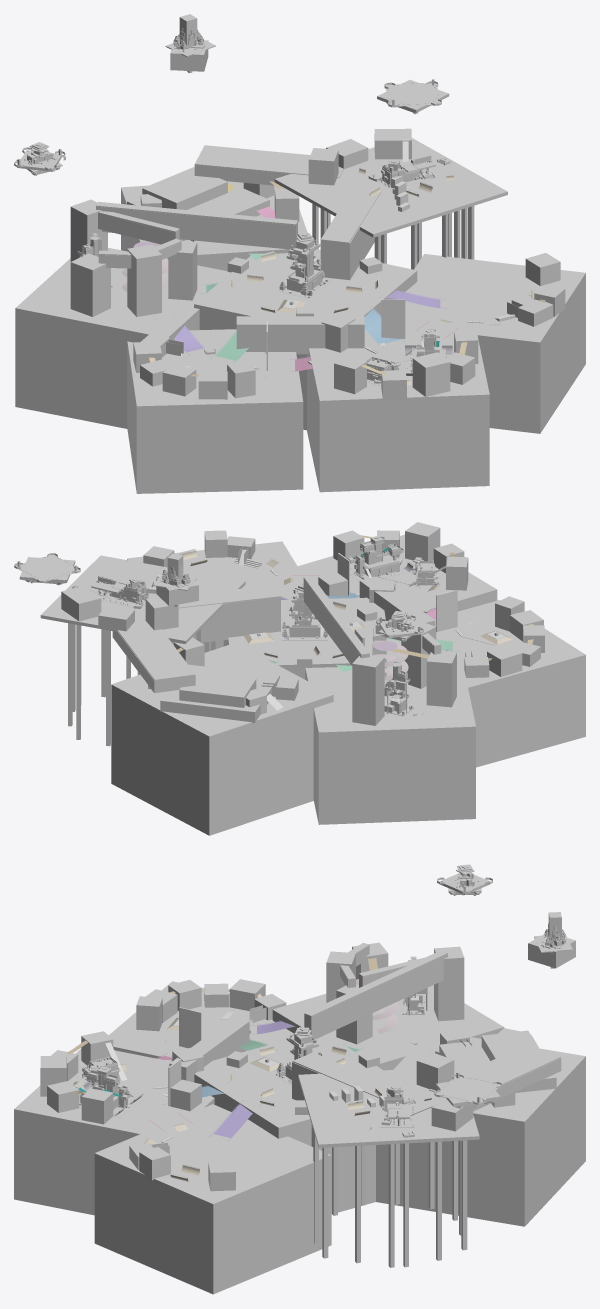
The model's file is zone_skyline_collision.glb.
3 renders of one model, top to bottom at view 1: azimuth 30°, elevation 25°; view 2: azimuth 150°, elevation 25°; view 3: azimuth 270°, elevation 25°, orthographic. The views are drawn at different scales.
Parts seen in each view (by area): view 1: bld_0.001, bld_1.001, bld_4, bld_23.001, bld_2, bld_5.001, bld_273, bld_269, bld_39.001, bld_41.001, bld_253, bld_20.001 (+28 smaller); view 2: bld_20.001, bld_23.001, bld_0.001, bld_5.001, bld_2, bld_1.001, bld_4, bld_41.001, bld_38.001, bld_21.001, bld_258, bld_22.001 (+33 smaller); view 3: bld_4, bld_20.001, bld_1.001, bld_2, bld_5.001, bld_23.001, bld_0.001, bld_269, bld_258, bld_273, bld_41.001, bld_39.001 (+31 smaller).
Part boxes in pixels (x1,y1,x2,y2): bld_0.001: (127, 329, 303, 493); bld_1.001: (307, 326, 489, 492); bld_4: (396, 254, 585, 433); bld_23.001: (15, 247, 230, 428); bld_2: (194, 249, 417, 430); bld_5.001: (274, 138, 507, 237); bld_273: (236, 316, 364, 354); bld_269: (96, 206, 295, 249); bld_39.001: (320, 187, 381, 279); bld_41.001: (194, 145, 343, 177); bld_253: (127, 244, 161, 316); bld_20.001: (121, 181, 307, 271); bld_20.001: (111, 642, 333, 835); bld_23.001: (305, 660, 475, 824); bld_0.001: (388, 600, 585, 767); bld_5.001: (40, 555, 245, 644); bld_2: (223, 597, 391, 679); bld_1.001: (276, 534, 497, 611); bld_4: (127, 541, 303, 651); bld_41.001: (117, 620, 195, 690); bld_38.001: (193, 597, 280, 642); bld_21.001: (160, 664, 279, 722); bld_258: (352, 655, 384, 725); bld_22.001: (179, 671, 256, 707); bld_4: (94, 1104, 331, 1294); bld_20.001: (376, 1030, 585, 1226); bld_1.001: (14, 1048, 214, 1215); bld_2: (194, 1034, 382, 1213); bld_5.001: (298, 1066, 479, 1147); bld_23.001: (272, 985, 504, 1070); bld_0.001: (108, 981, 293, 1058); bld_269: (311, 954, 447, 1039); bld_258: (434, 946, 464, 1021); bld_273: (169, 1017, 249, 1082); bld_41.001: (429, 1044, 560, 1092); bld_39.001: (292, 1052, 401, 1097).
Bounding box in the file's own units: 266 × 148 × 283.
